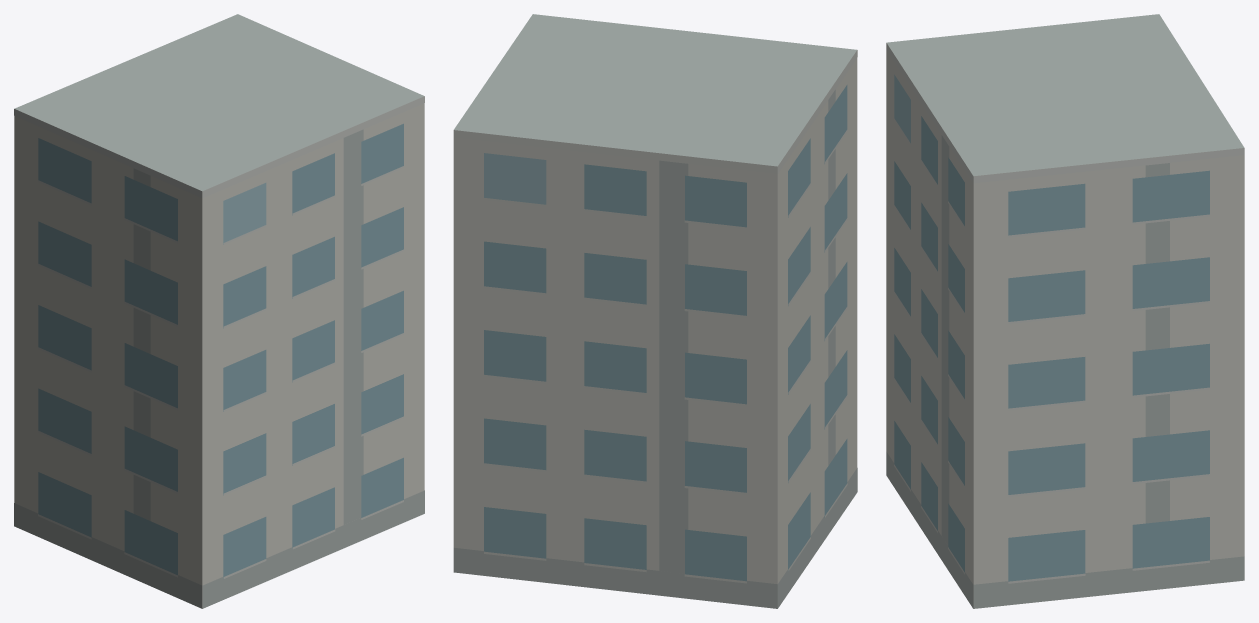
Rendered from survey-upis-33027672.glb.
3 views of the same model, side by side, from view 1: azimuth 30°, elevation 25°; view 2: azimuth 150°, elevation 25°; view 3: azimuth 270°, elevation 25° (orthographic). The views are drawn at different scales.
Visible parts, largest first — view 1: survey-upis-33027672.tmp; view 2: survey-upis-33027672.tmp; view 3: survey-upis-33027672.tmp.
Boxes of the visible parts, bbox=[...] form: survey-upis-33027672.tmp: bbox=[14, 14, 424, 608]; survey-upis-33027672.tmp: bbox=[453, 14, 857, 608]; survey-upis-33027672.tmp: bbox=[886, 14, 1244, 608].
Size of the model in its own units: 11.67 by 14.5 by 10.89.
